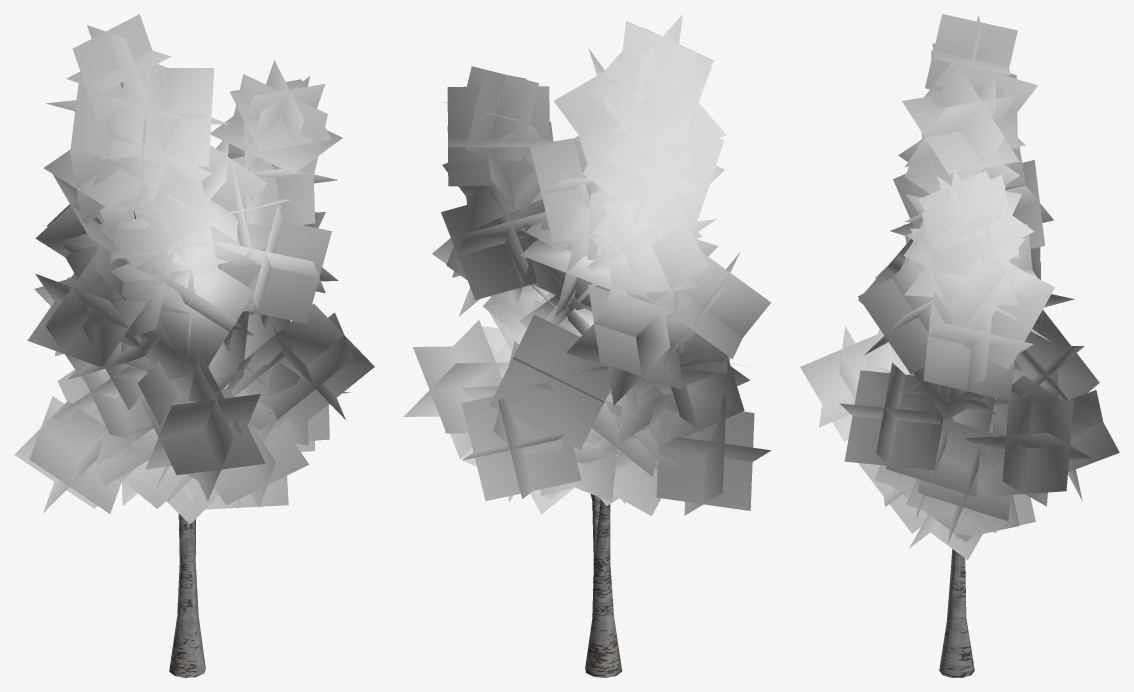
File: tree06_main_LOD1.fbx
The picture shows the model from 3 angles, left to right: view 1: azimuth 30°, elevation 25°; view 2: azimuth 150°, elevation 25°; view 3: azimuth 270°, elevation 25°; orthographic projection. The views are drawn at different scales.
Visible parts, largest first — view 1: tree.002; view 2: tree.002; view 3: tree.002.
Part boxes in pixels (x1,y1,x2,y2): tree.002: (14,14,374,677); tree.002: (403,14,771,677); tree.002: (800,14,1119,677).
Size of the model in its own units: 731 by 1449 by 672.
